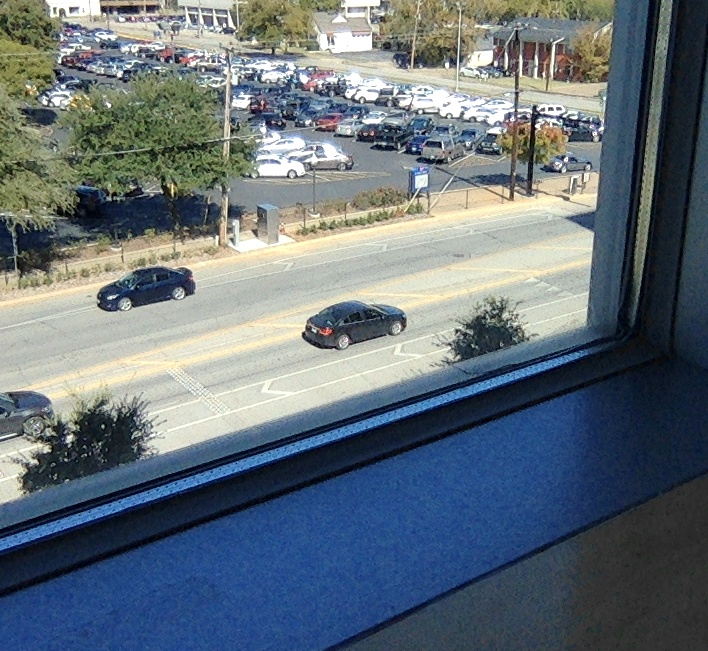car: (300, 300, 408, 351)
